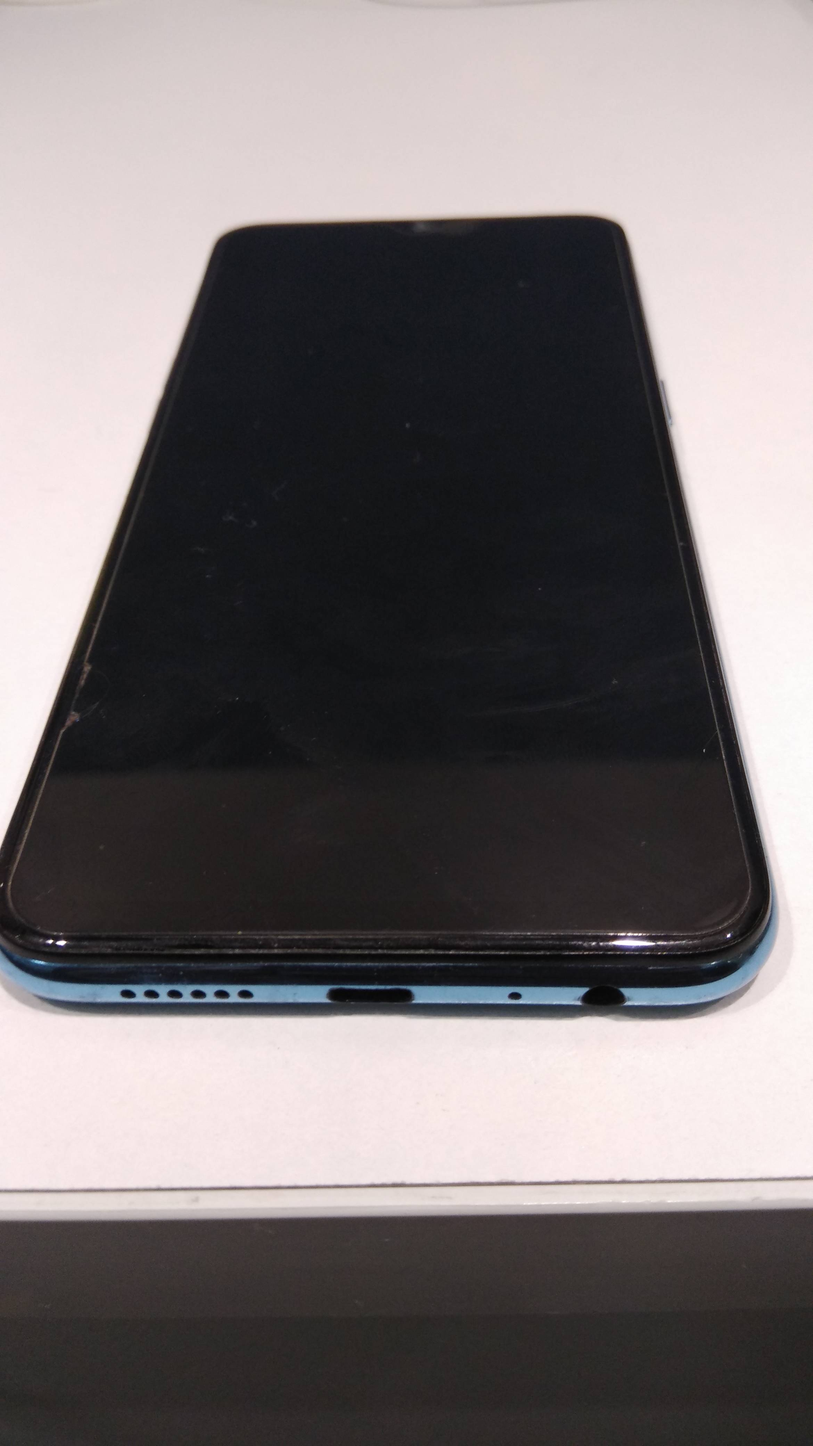Electronics: (2, 192, 797, 1045)
